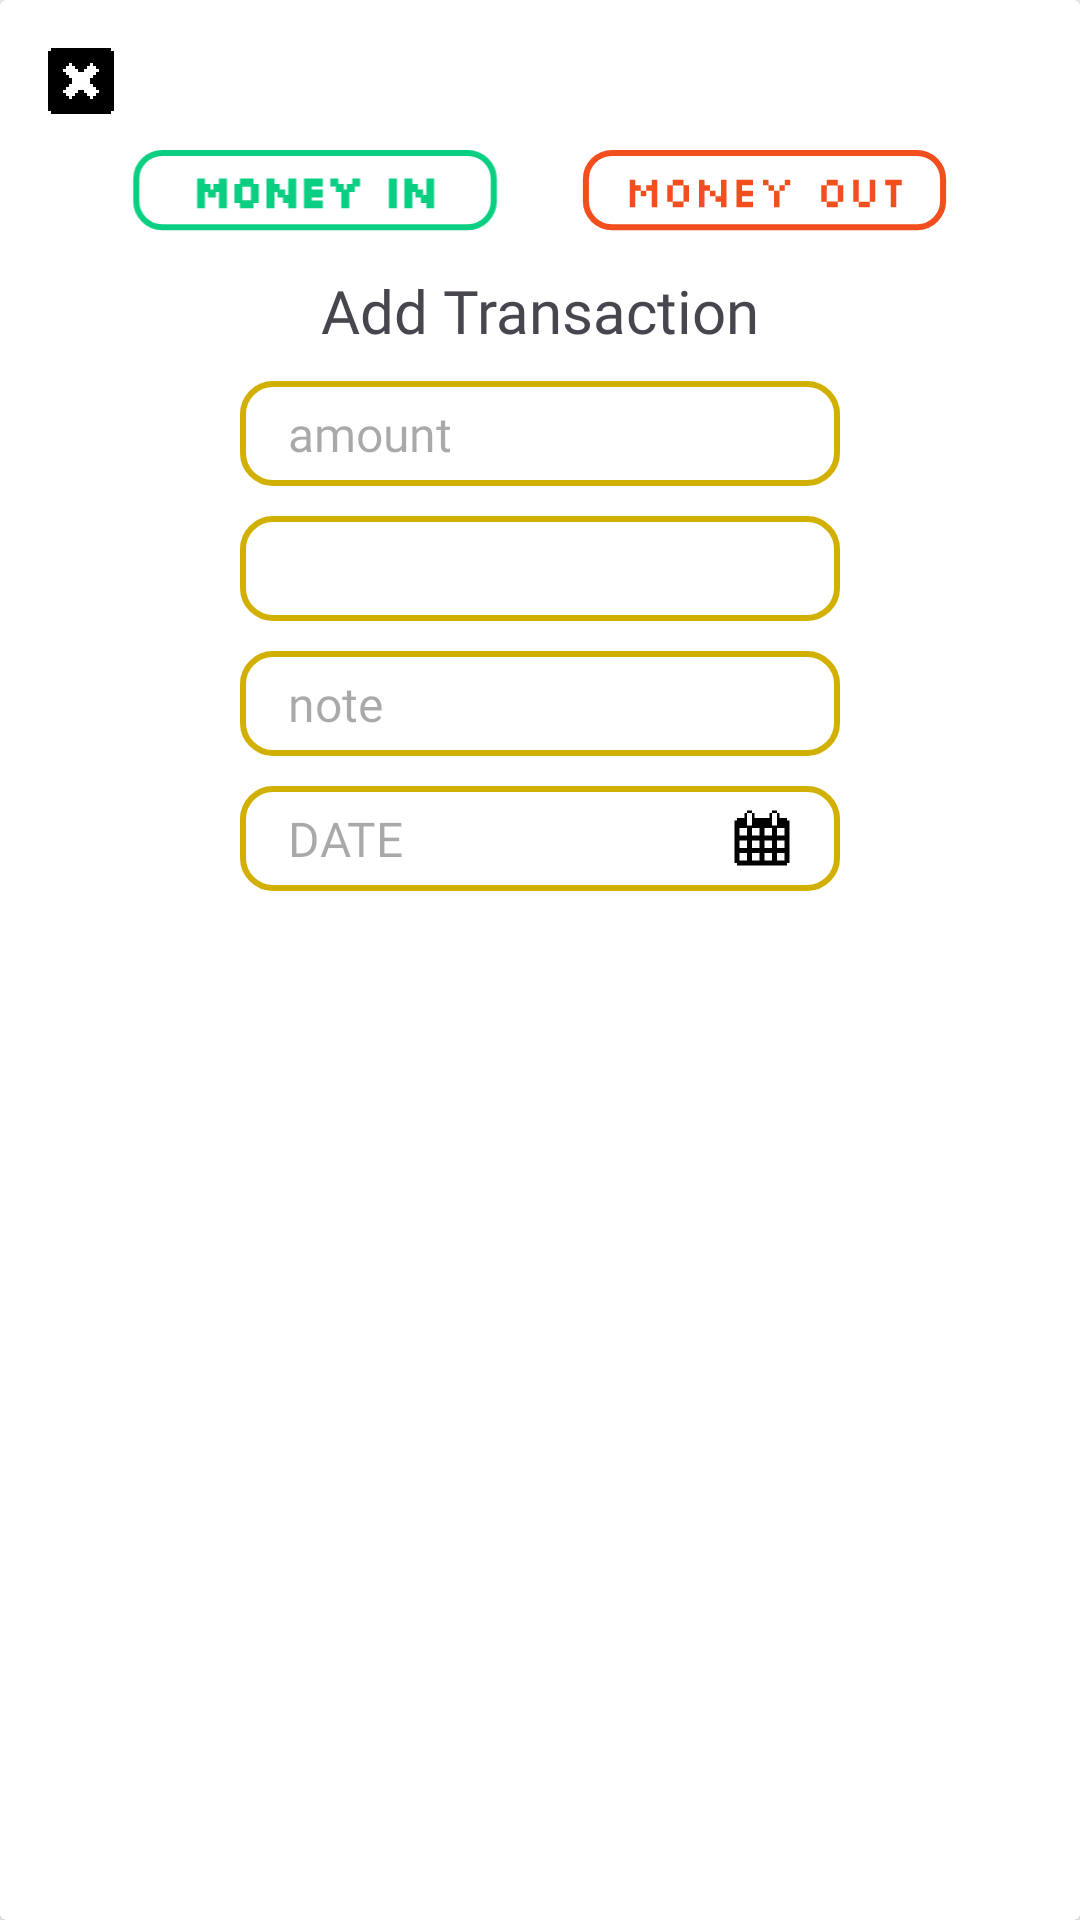

Screen size 1080*1920. Icon name, then its box in pixels as bbox=[x1, y1, x2, y2]:
window close: bbox=[48, 48, 114, 114]
